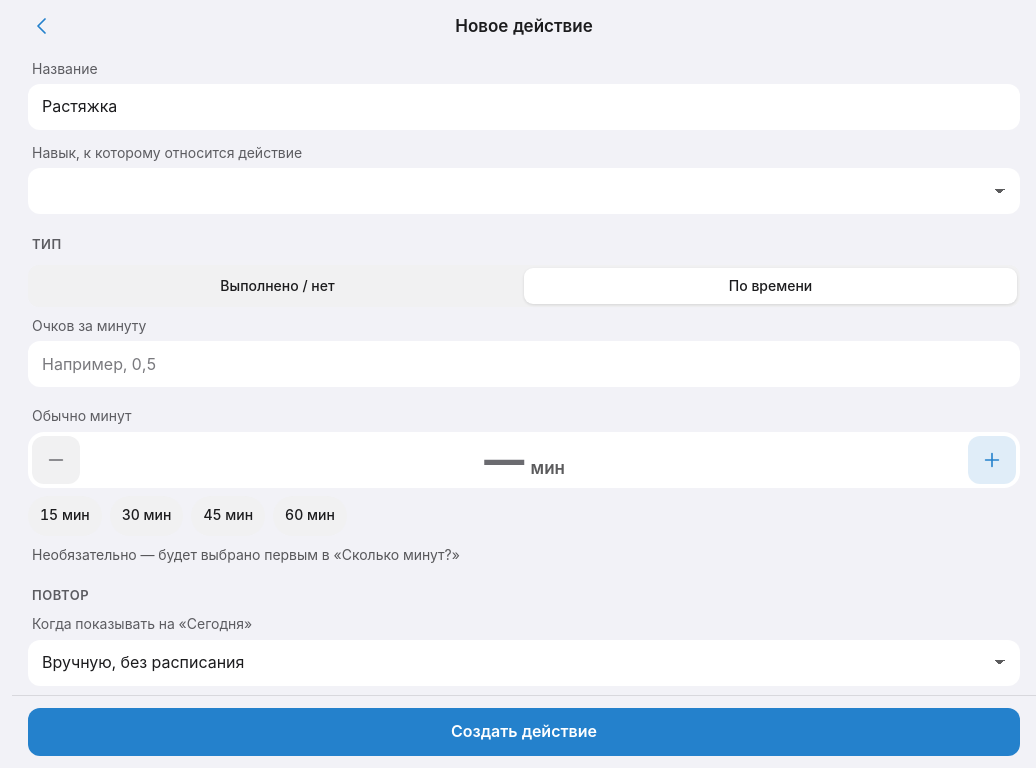
Test: StepFormScreen › accepts a dot in the rate, warns about a rate that rounds a minute to 0, and shows quota hints
Earlier steps of the test are not shown.
Type "0.04" into the field labelled "Очков за минуту" at (524, 364), box [28, 342, 1020, 388]
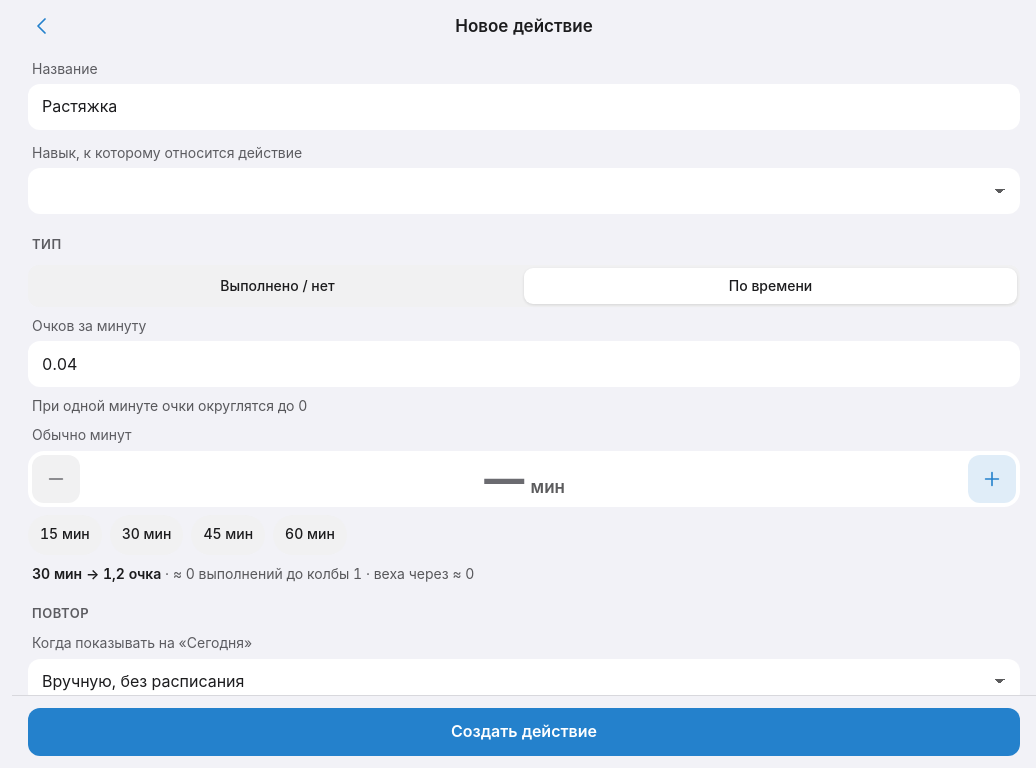
Now the text "При одной минуте очки округлятся до 0" is shown, box [32, 398, 307, 414]
Replace the text in the field labelled "Очков за минуту" with "0.25" at (524, 364), box [28, 342, 1020, 388]
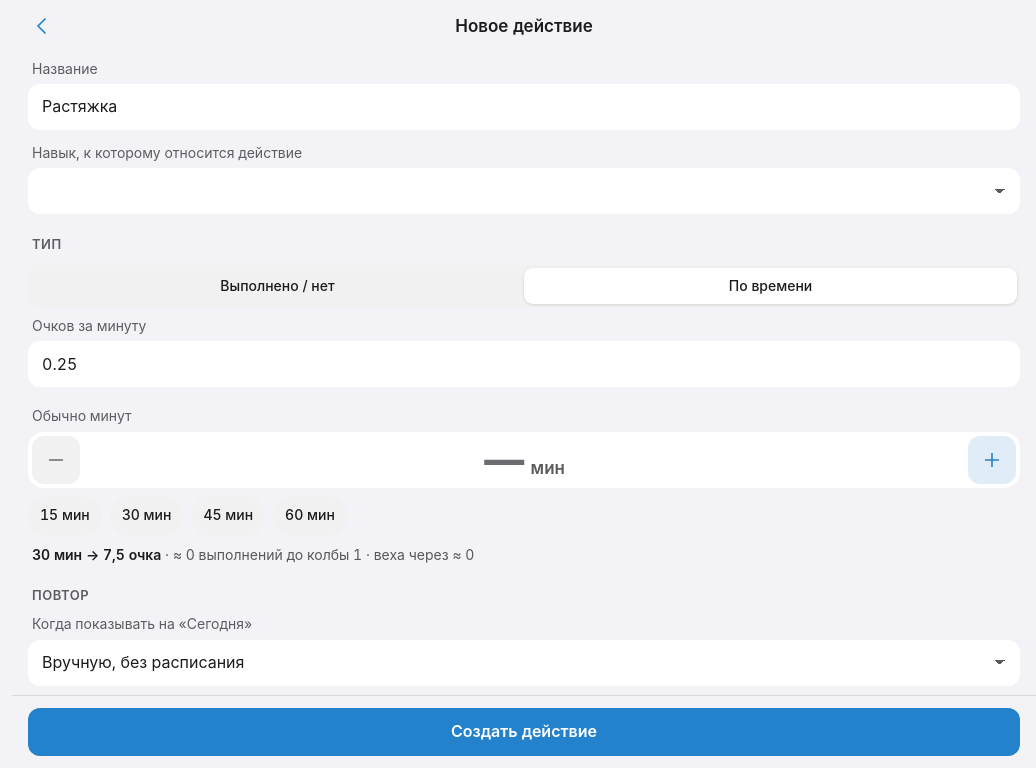
Now the text "При одной минуте очки округлятся до 0" is gone
Select "N раз в неделю" in the dropdown labelled "Когда показывать на «Сегодня»" at (524, 663), box [28, 640, 1020, 686]
(page scrolled)
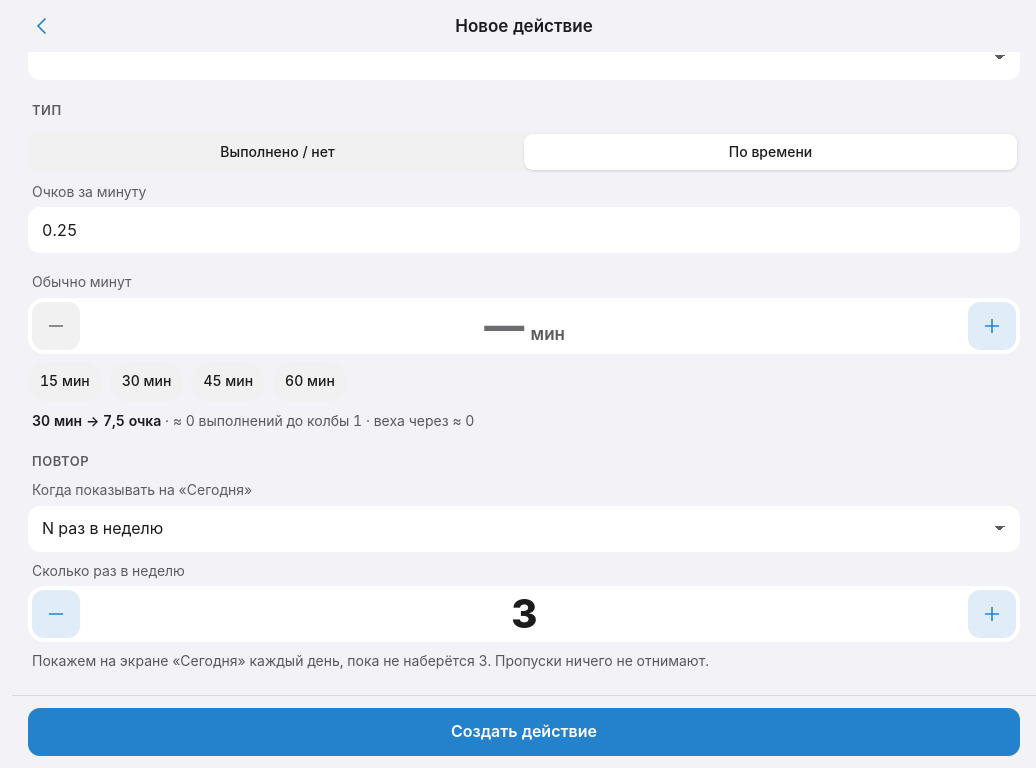
Now the text "Покажем на экране «Сегодня» каждый день, пока не наберётся 3. Пропуски ничего не отнимают." is shown, box [32, 652, 709, 669]
Click the 2nd button named "Больше" at (992, 614), box [968, 590, 1016, 638]
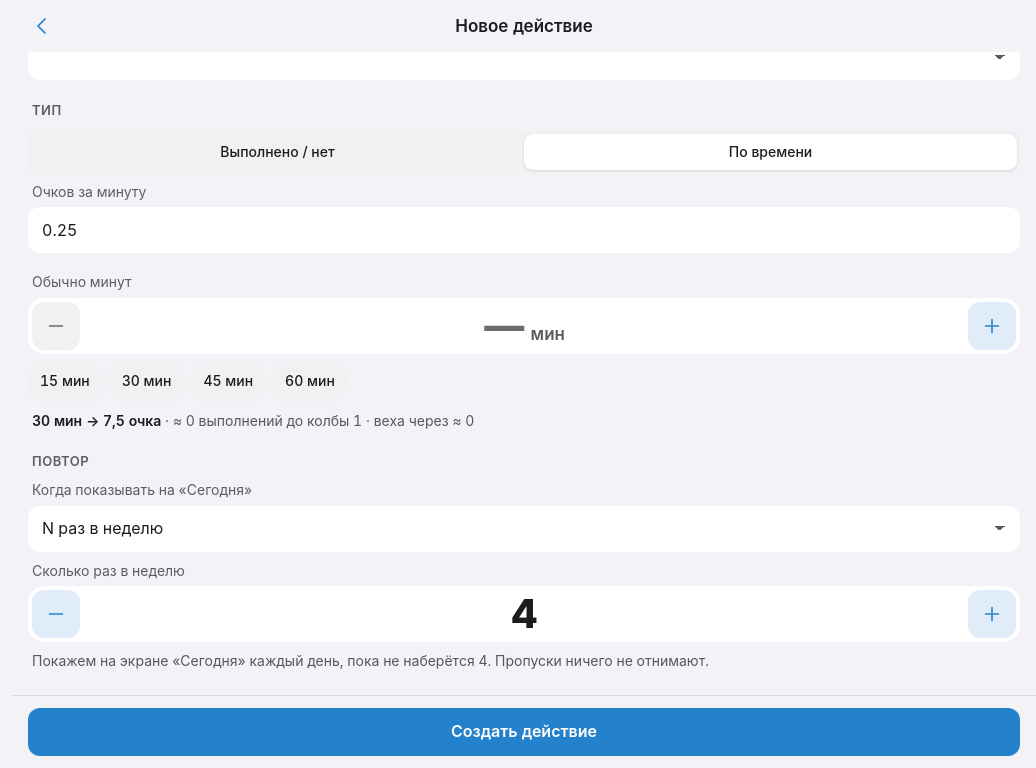
Select "N раз в месяц" in the dropdown labelled "Когда показывать на «Сегодня»" at (524, 529), box [28, 506, 1020, 552]
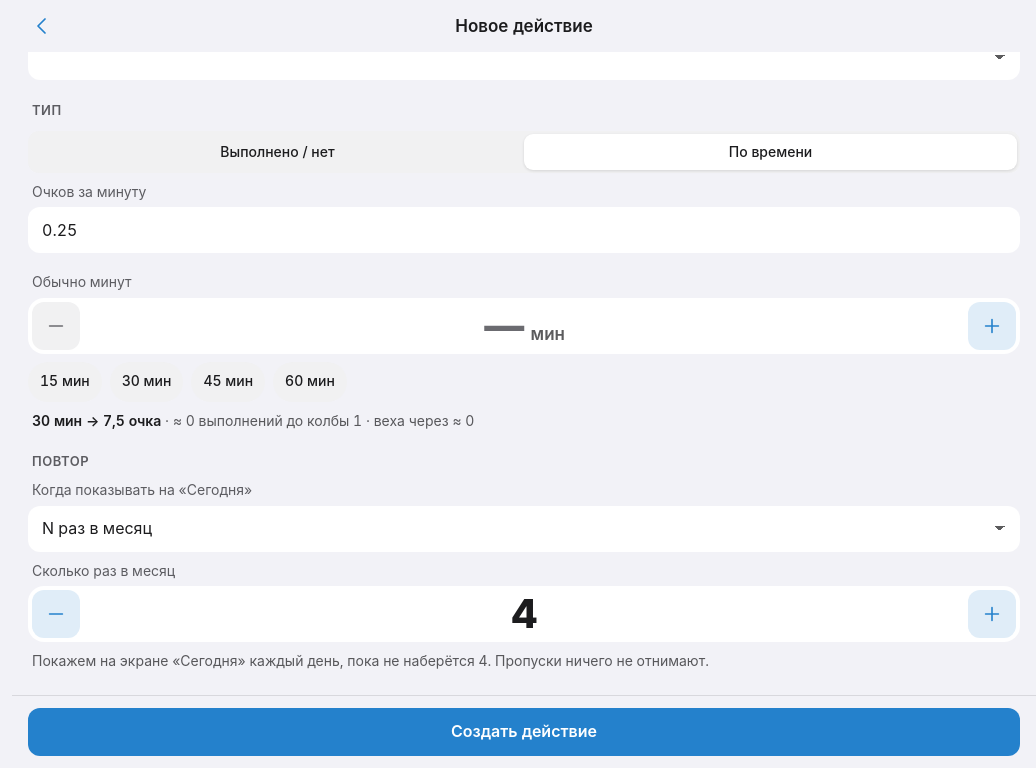
Now the field labelled "Сколько раз в месяц" holds "4", box [503, 593, 545, 635]
Click the button "Создать действие" at (524, 732), box [28, 708, 1020, 756]
(page scrolled)
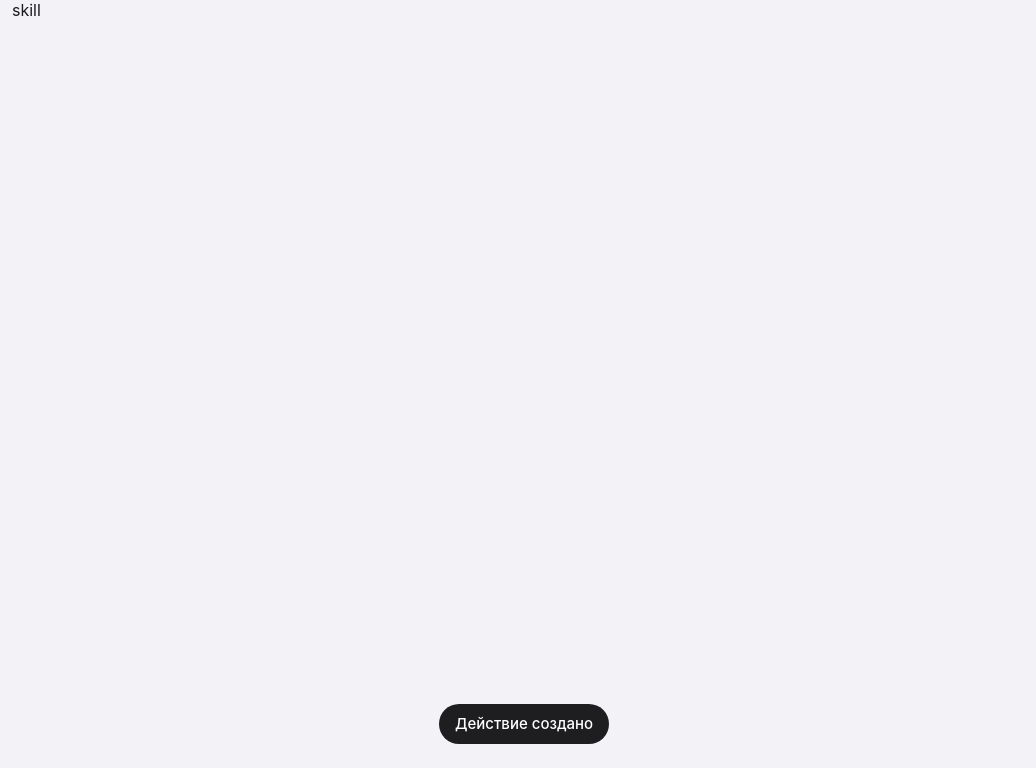
Now the text "skill" is shown, box [12, 0, 41, 20]
